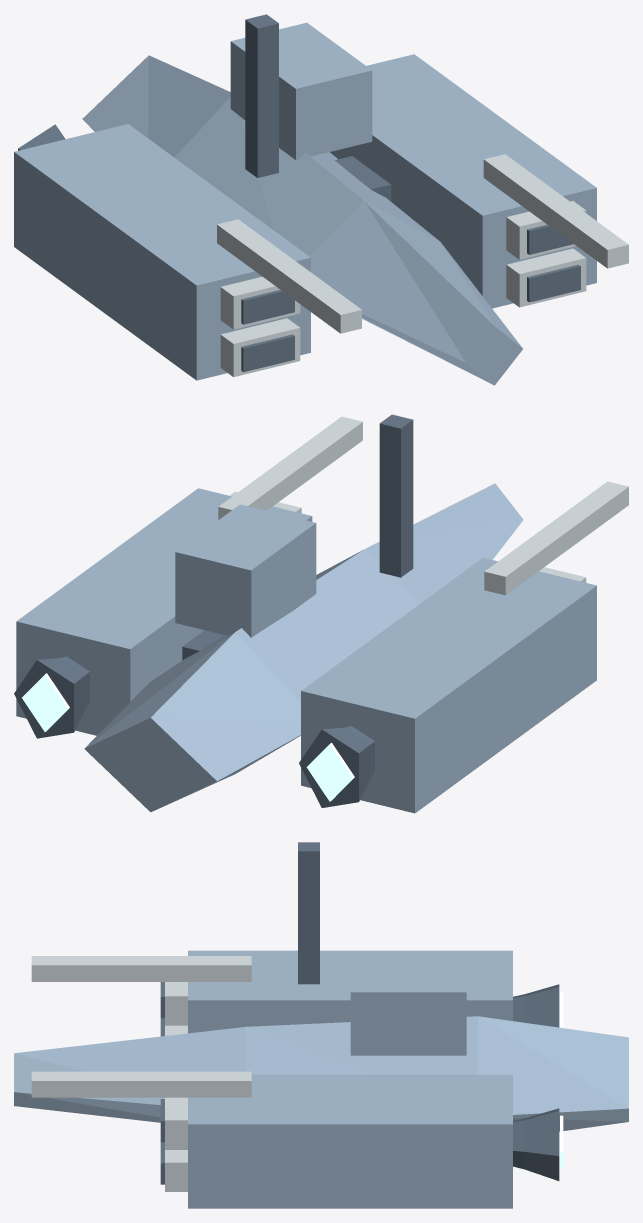
The picture shows the model from 3 angles, top to bottom: view 1: azimuth 30°, elevation 25°; view 2: azimuth 150°, elevation 25°; view 3: azimuth 270°, elevation 25°; orthographic projection. The views are drawn at different scales.
Size of the model in its own units: 8.96 by 6.43 by 13.41.
